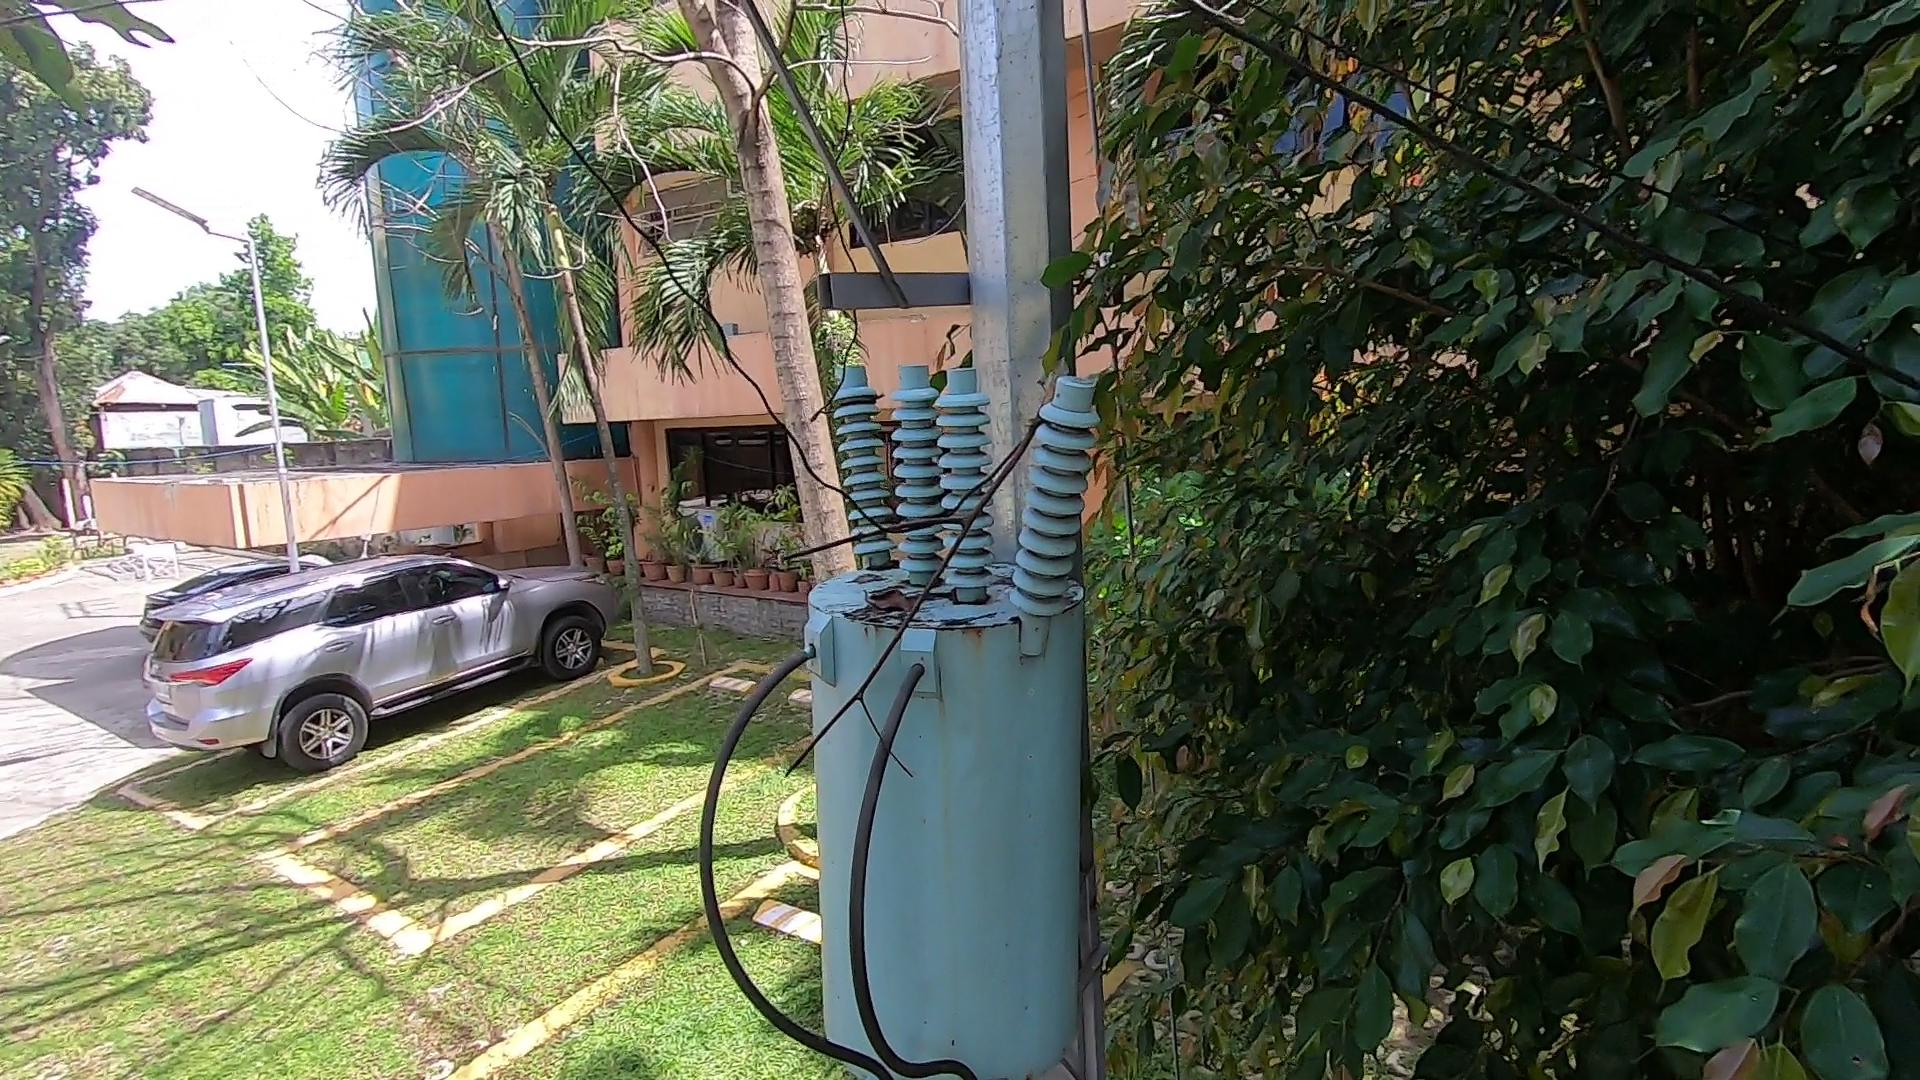leaf: (849, 575, 935, 636)
tree branch: (761, 342, 1056, 796)
